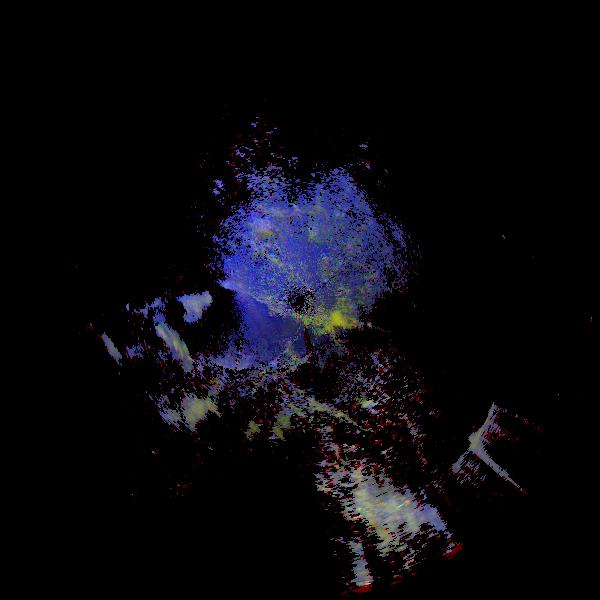roost: (109, 300, 217, 408)
